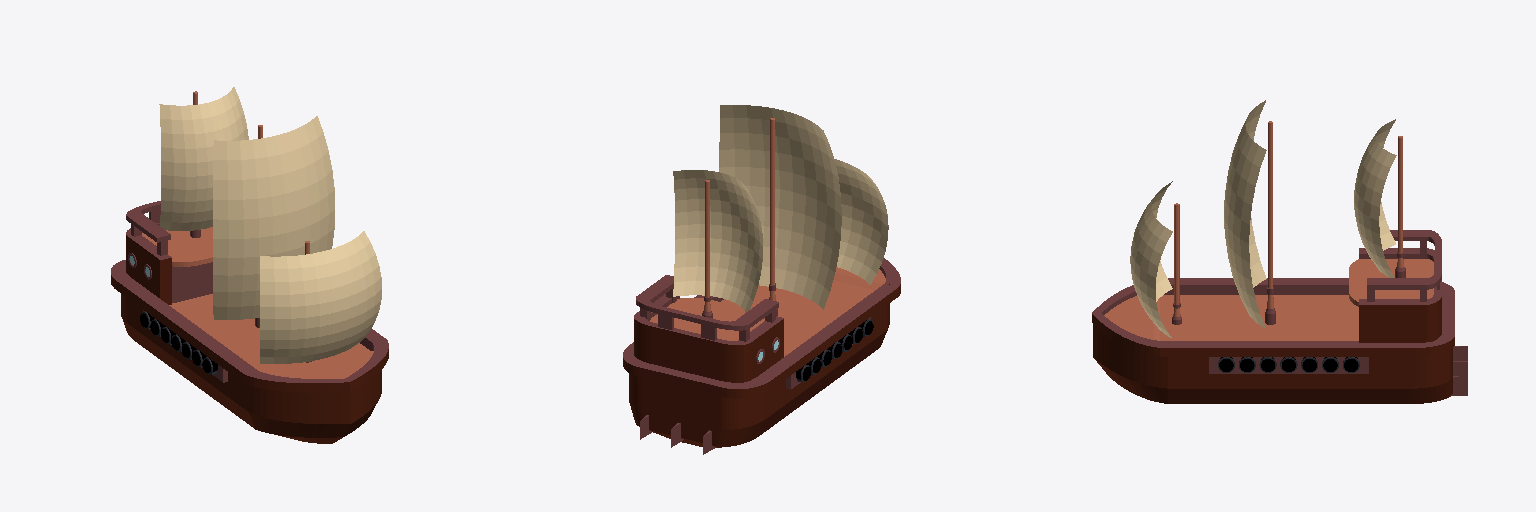
Rendered from player_ship_3.obj.
3 renders of one model, left to right at view 1: azimuth 30°, elevation 25°; view 2: azimuth 150°, elevation 25°; view 3: azimuth 270°, elevation 25°, orthographic.
Visible parts, largest first — view 1: mergedBlocks; view 2: mergedBlocks; view 3: mergedBlocks.
Part boxes in pixels (bbox=[...]): mergedBlocks: bbox=[111, 87, 388, 443]; mergedBlocks: bbox=[623, 105, 900, 454]; mergedBlocks: bbox=[1092, 100, 1467, 403].
Bounding box in the file's own units: 3.4 × 5.67 × 7.24.